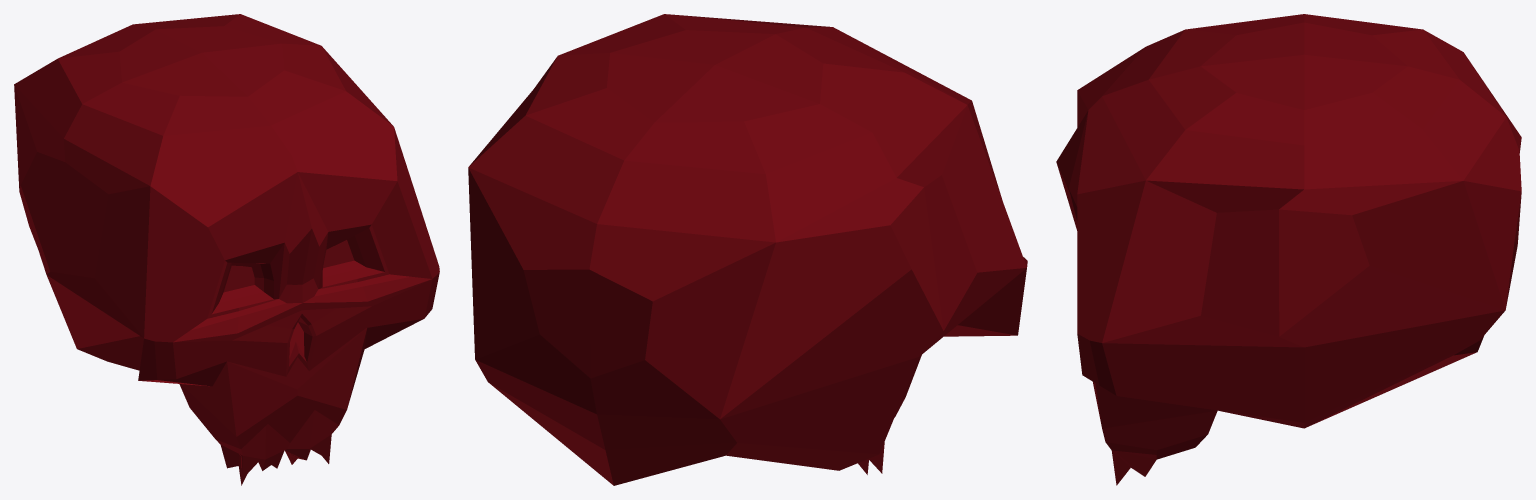
File: BloodySkull.fbx
The picture shows the model from 3 angles, left to right: view 1: azimuth 30°, elevation 25°; view 2: azimuth 150°, elevation 25°; view 3: azimuth 270°, elevation 25°; orthographic projection. The views are drawn at different scales.
Parts seen in each view (by area): view 1: Cube; view 2: Cube; view 3: Cube.
Boxes of the visible parts, <box> form: Cube: <box>14,14,439,485</box>; Cube: <box>468,14,1027,485</box>; Cube: <box>1056,14,1521,485</box>.
Size of the model in its own units: 310 by 326 by 338.
